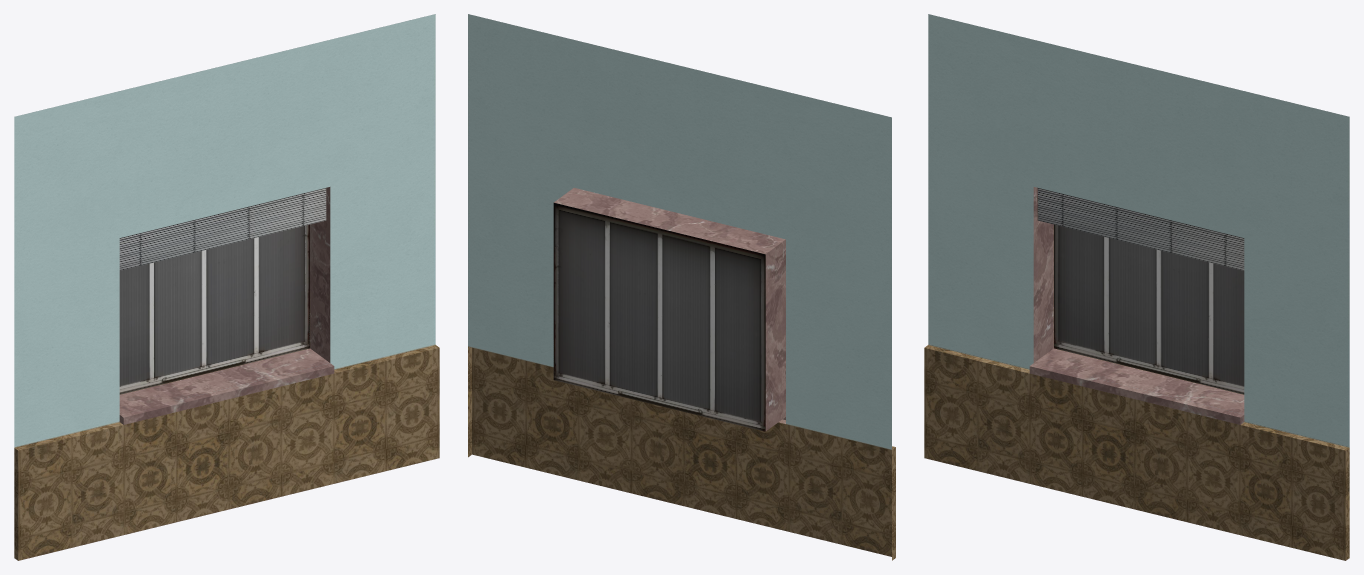
File: Building B Window A1.fbx
The picture shows the model from 3 angles, left to right: view 1: azimuth 30°, elevation 25°; view 2: azimuth 150°, elevation 25°; view 3: azimuth 330°, elevation 25°; orthographic projection.
Visible parts, largest first — view 1: Building B Window A1 (2, Baked); view 2: Building B Window A1 (2, Baked); view 3: Building B Window A1 (2, Baked).
Boxes of the visible parts, left/top/right/bottom form: Building B Window A1 (2, Baked): left=14, top=14, right=439, bottom=560; Building B Window A1 (2, Baked): left=468, top=14, right=895, bottom=560; Building B Window A1 (2, Baked): left=924, top=14, right=1349, bottom=560.
Bounding box in the file's own units: 300 × 300 × 30.
